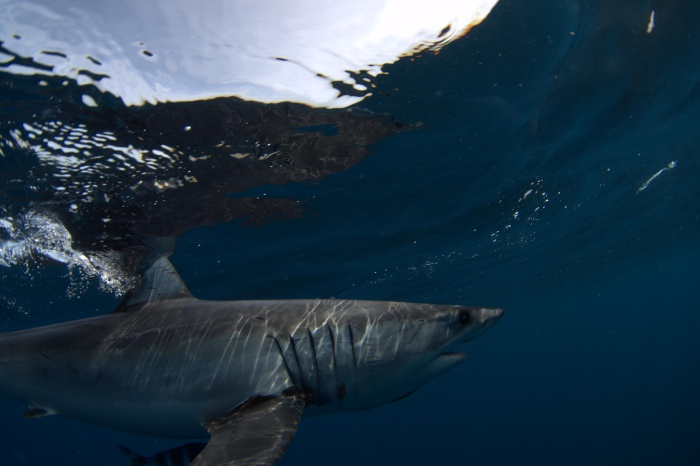Mako: (1, 249, 527, 466)
